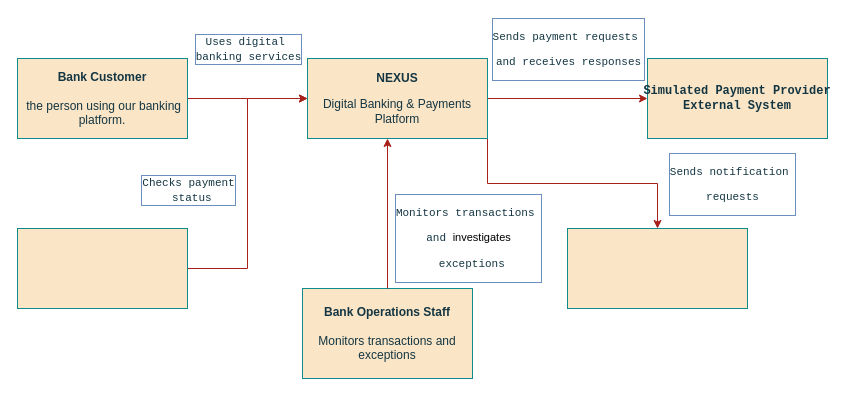
The diagram is 848 pixels wide and 396 high, and some of its shapes have lost their labels. The centre of each missing label's shape, as x and y in pixels:
"Merchant accepts digital payments" goes at [102,268].
"Simulated Notification Service External System" goes at [657,268].
